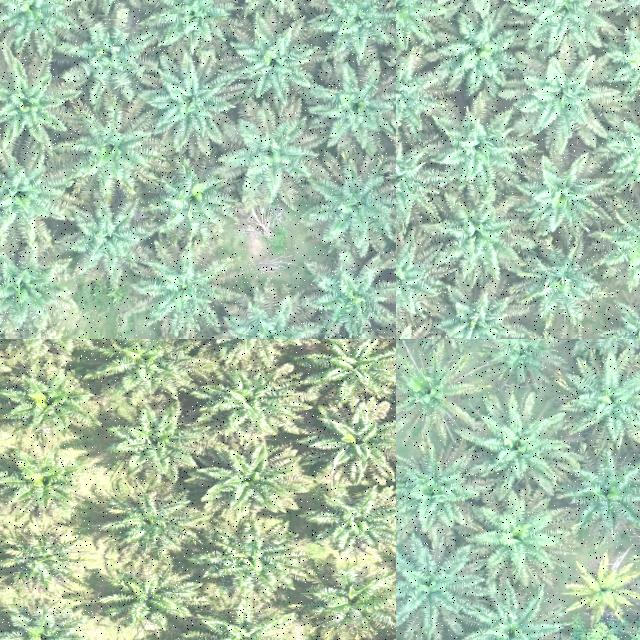Ganoderma: (579, 566, 630, 612)
